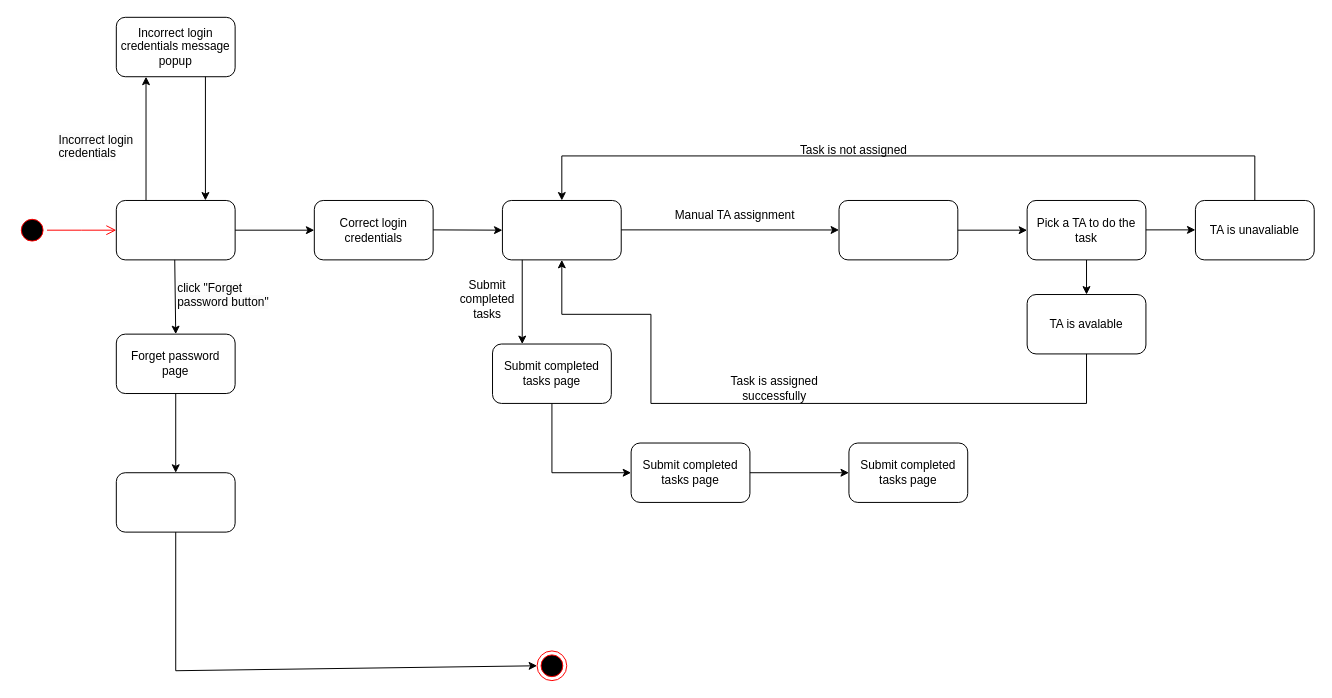
Image size: 1332x698. Some labels were removed from this diagram. The shapes that lost their labels are listed below. From the top down, each one's box as (x1, y1, x2, y2) in pixels, then its label:
(115, 199, 235, 260): Log in
(501, 199, 621, 260): Profile view
(838, 199, 958, 260): Manual TA work assignment page
(115, 472, 235, 532): Sends email to reset password
